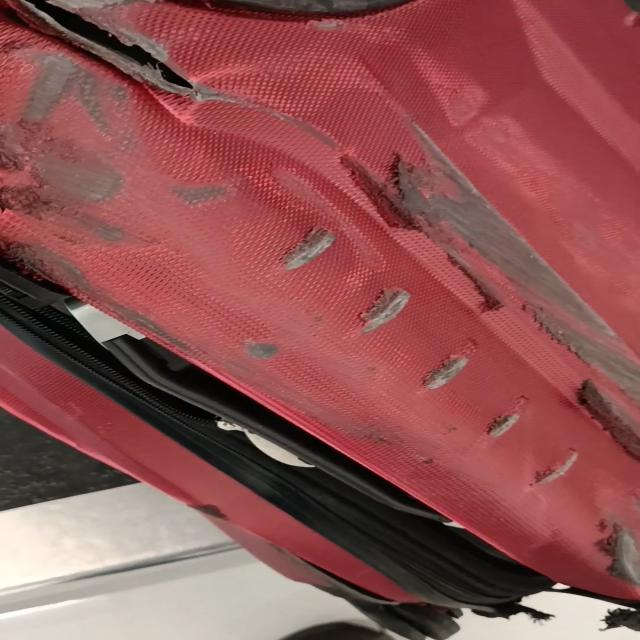Damage-bag: (340, 121, 638, 400), (7, 0, 267, 110), (2, 140, 124, 220), (573, 380, 638, 459), (282, 229, 336, 270), (600, 522, 638, 580), (360, 289, 409, 331), (533, 450, 578, 486), (422, 356, 467, 390), (487, 409, 520, 438)
